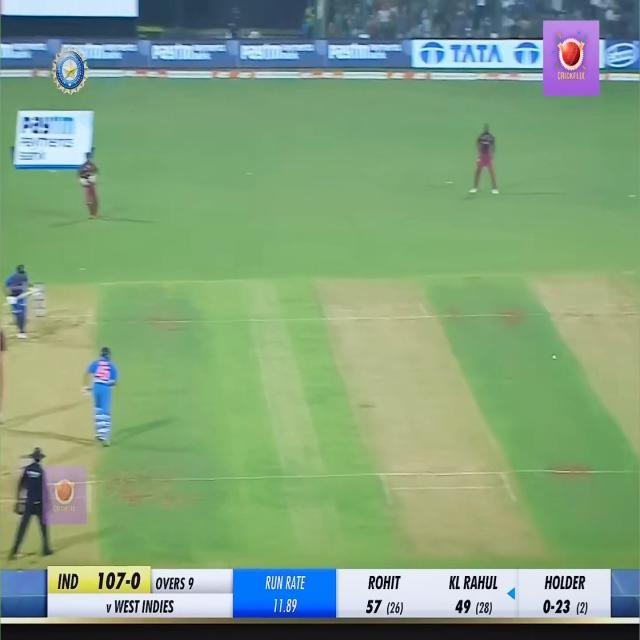partially_visible: (16, 112, 79, 140), (147, 36, 193, 68), (238, 38, 281, 66), (326, 40, 372, 66)
